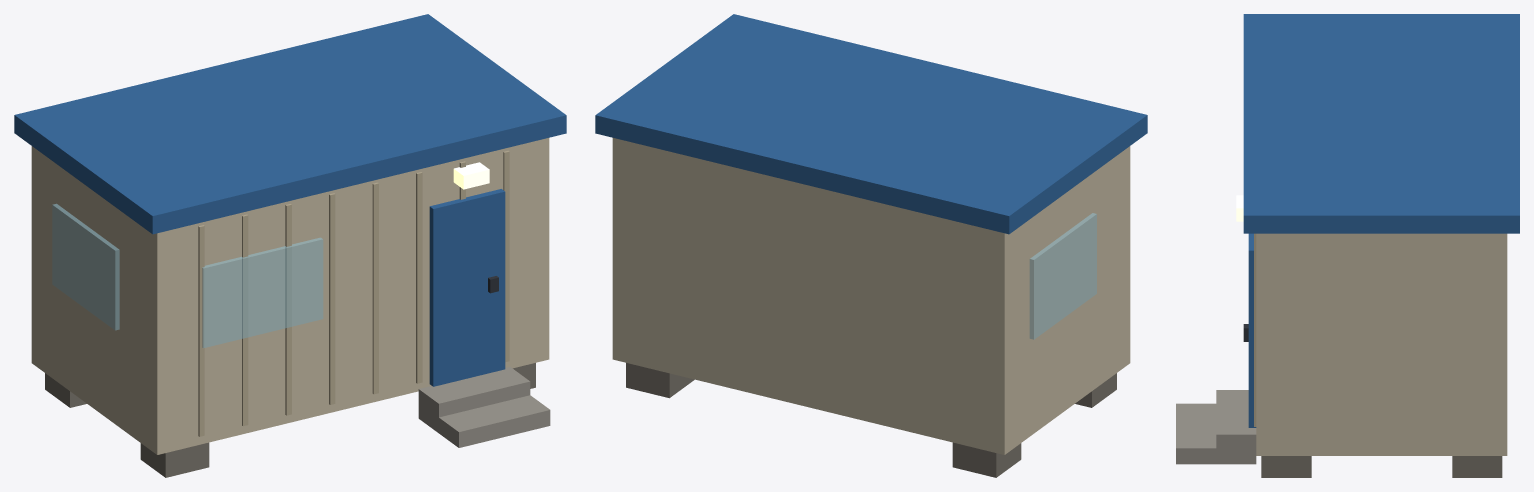
The model's file is v2-site-office.glb.
The picture shows the model from 3 angles, left to right: view 1: azimuth 30°, elevation 25°; view 2: azimuth 150°, elevation 25°; view 3: azimuth 270°, elevation 25°; orthographic projection.
Parts seen in each view (by area): view 1: v2-site-office; view 2: v2-site-office; view 3: v2-site-office.
Part boxes in pixels (box(x1,y1,x2,y2)): v2-site-office: box(14, 14, 566, 477); v2-site-office: box(595, 14, 1147, 477); v2-site-office: box(1176, 14, 1519, 477).
Bounding box in the file's own units: 1.9 × 1.2 × 1.37.
